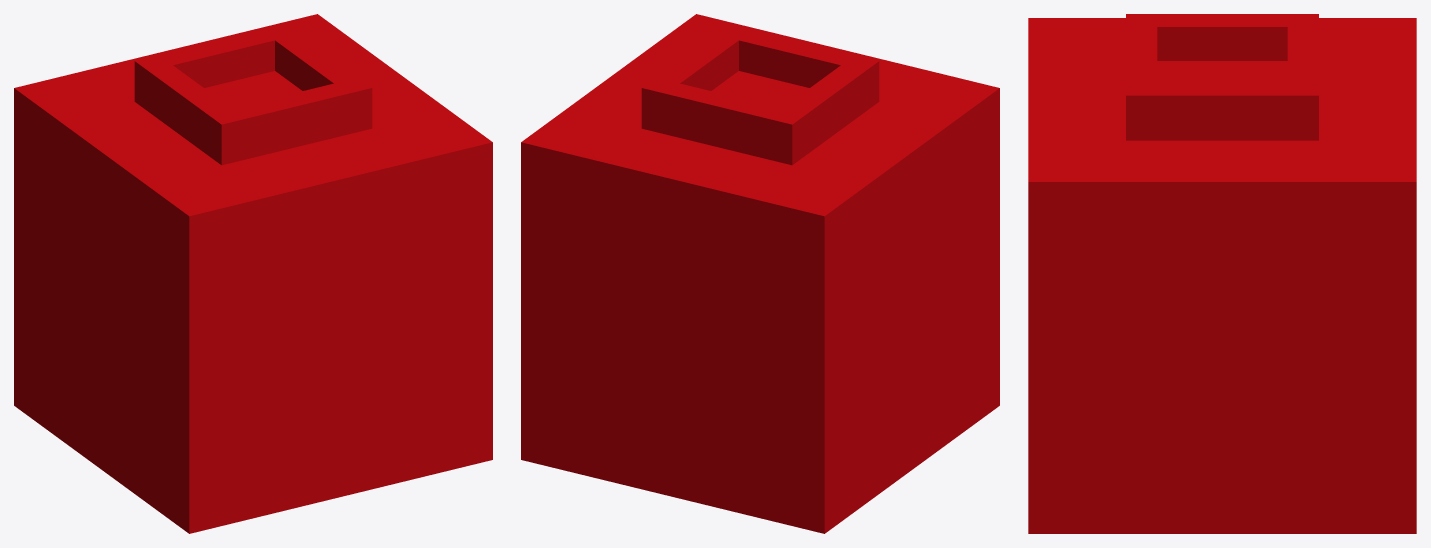
The model's file is Square_ProtoBlock.fbx.
3 renders of one model, left to right at view 1: azimuth 30°, elevation 25°; view 2: azimuth 150°, elevation 25°; view 3: azimuth 270°, elevation 25°, orthographic. The views are drawn at different scales.
Parts seen in each view (by area): view 1: Cube; view 2: Cube; view 3: Cube.
Part boxes in pixels (bbox=[...]): Cube: bbox=[14, 14, 492, 533]; Cube: bbox=[521, 14, 999, 533]; Cube: bbox=[1028, 14, 1416, 533].
Bounding box in the file's own units: 200 × 226 × 200.
